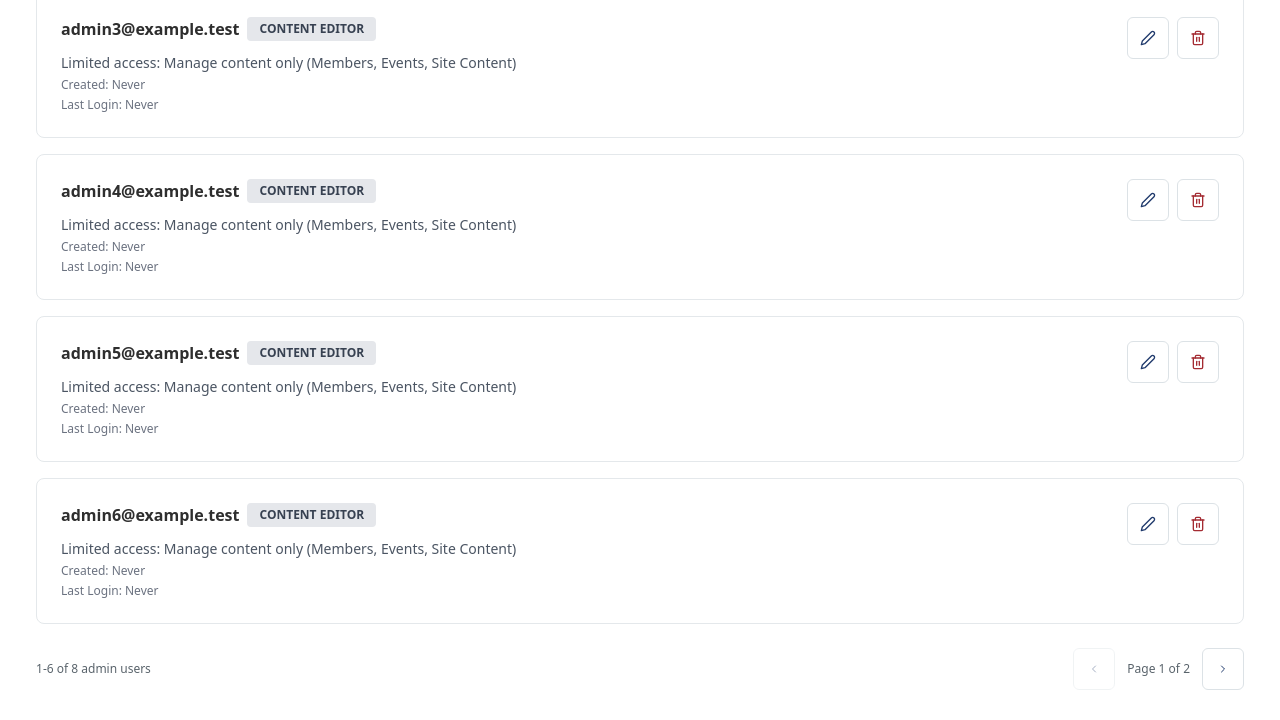
Test: combines email search and role filtering and resets pagination
(page scrolled)
Expected: the text "1-6 of 8 admin users" is shown, left=36, top=660, right=151, bottom=678
Click the button named "Next page" at (1223, 669), box left=1202, top=648, right=1244, bottom=690
(page scrolled)
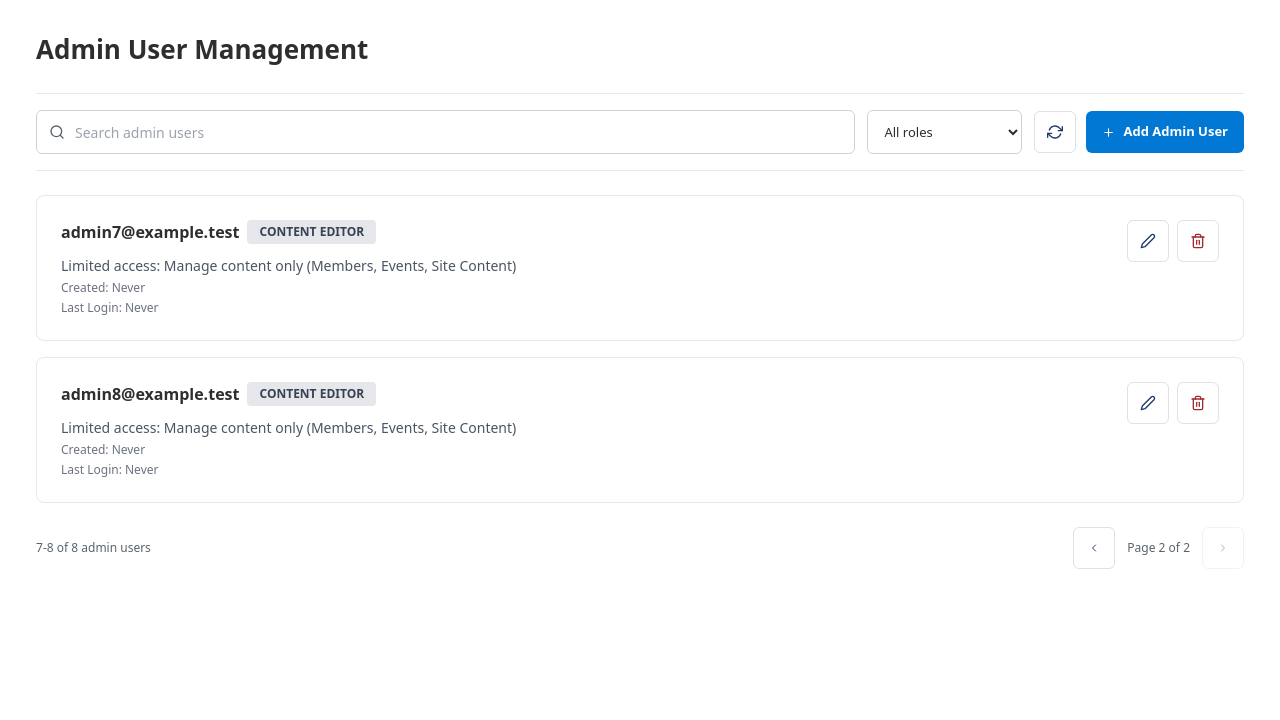
Expected: the text "7-8 of 8 admin users" is shown, left=36, top=539, right=151, bottom=557
Type " ADMIN8@EXAMPLE.TEST " into the search field at (465, 132), box left=75, top=111, right=854, bottom=153
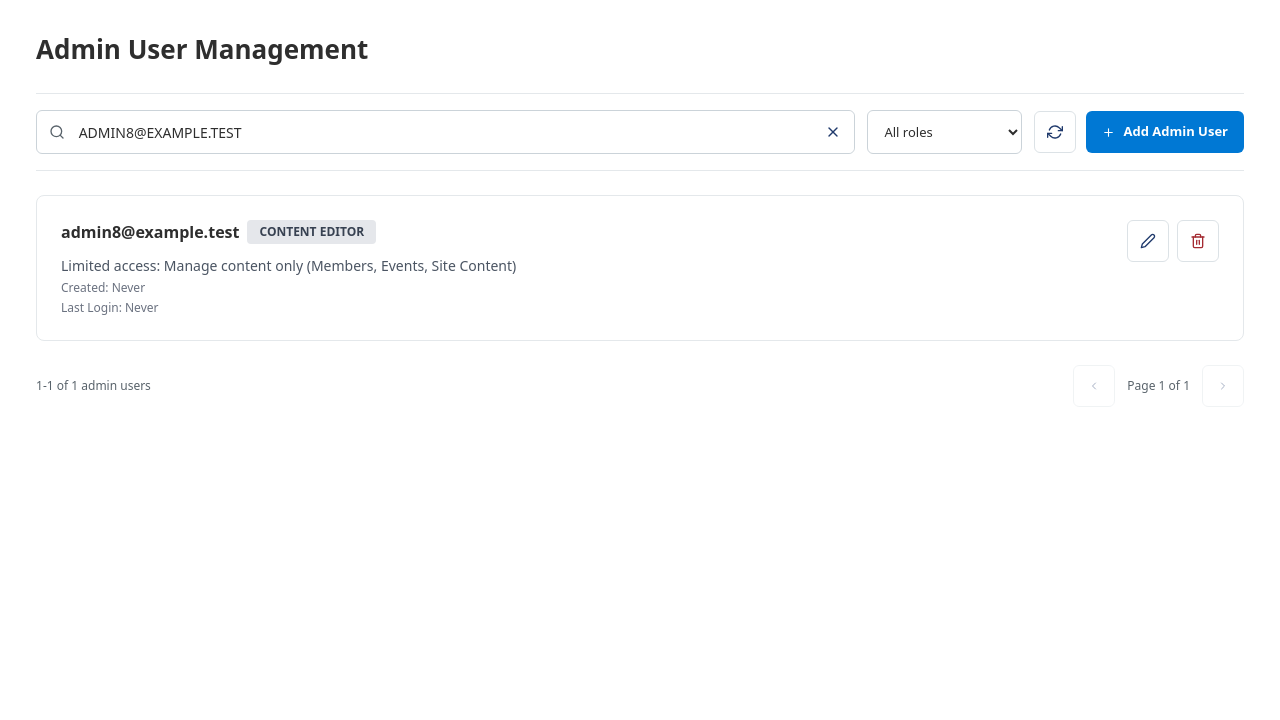
Expected: the text "1-1 of 1 admin users" is shown, left=36, top=377, right=151, bottom=395
Select "Super Admin" in the dropdown at (945, 132), box left=868, top=110, right=1022, bottom=154
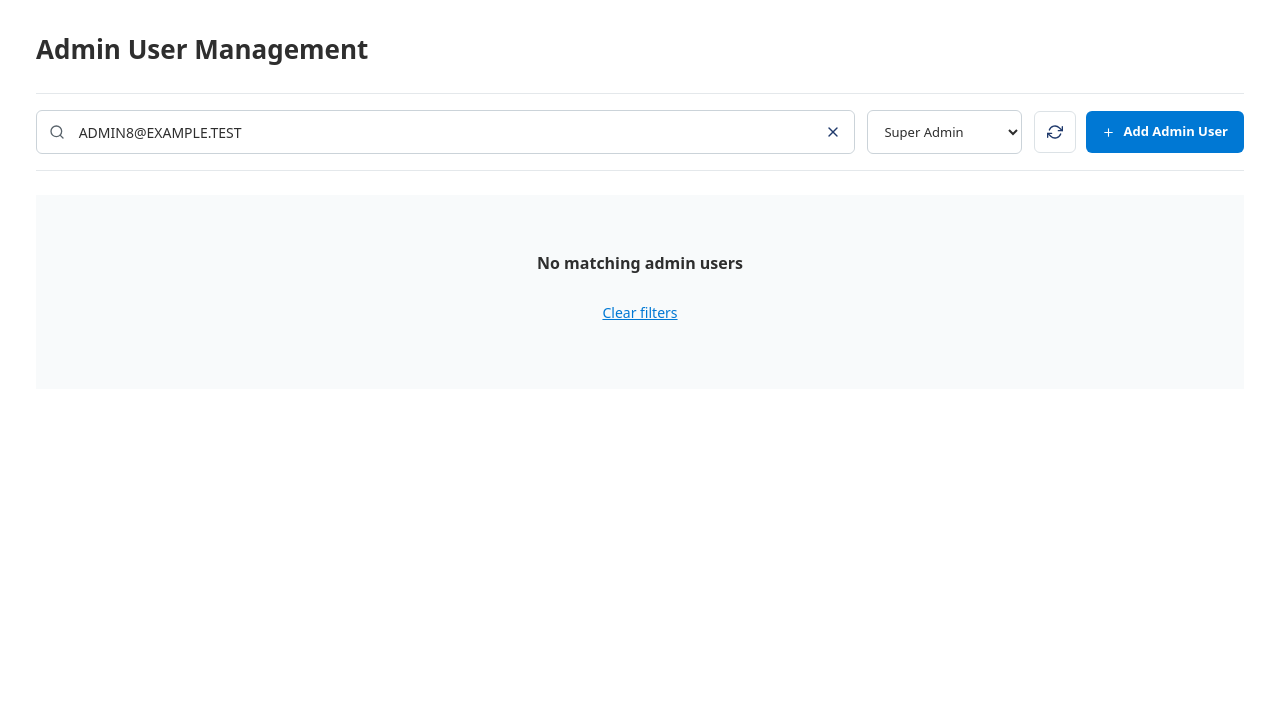
Expected: the heading "No matching admin users" is shown, left=537, top=252, right=743, bottom=274
Click the button "Clear filters" at (640, 312), box left=602, top=291, right=678, bottom=333
(page scrolled)
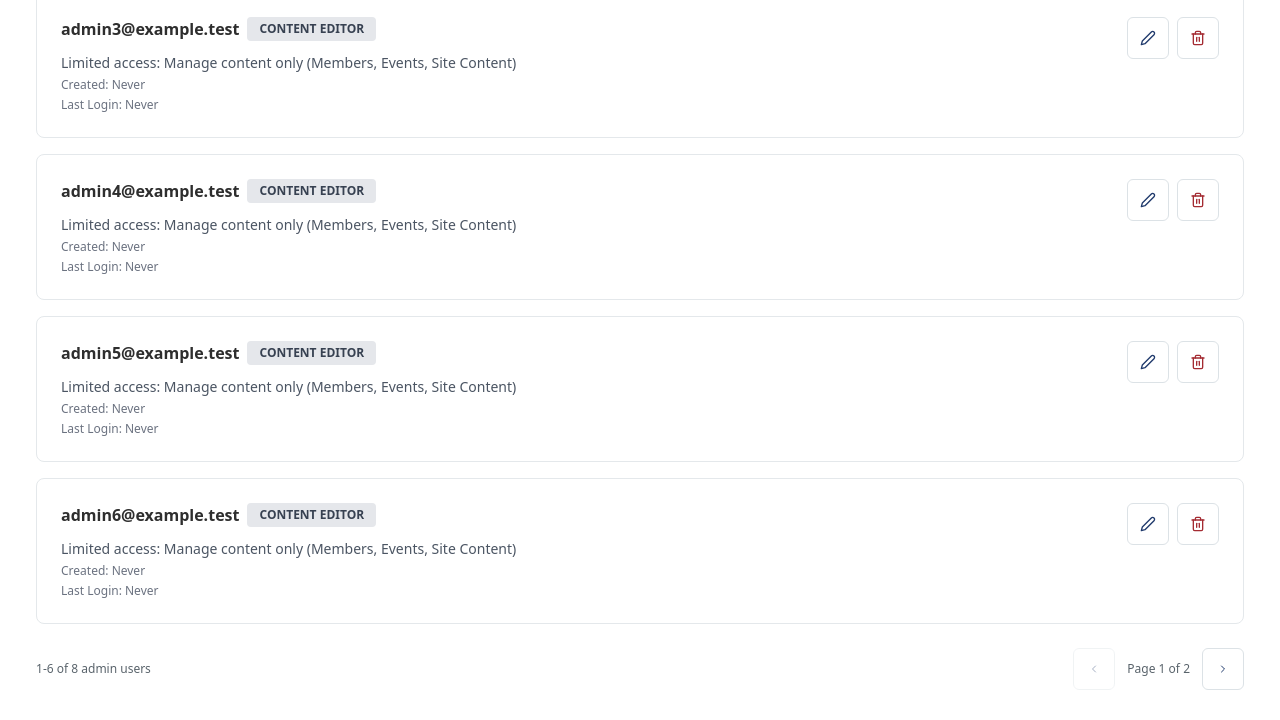
Expected: the text "1-6 of 8 admin users" is shown, left=36, top=660, right=151, bottom=678
